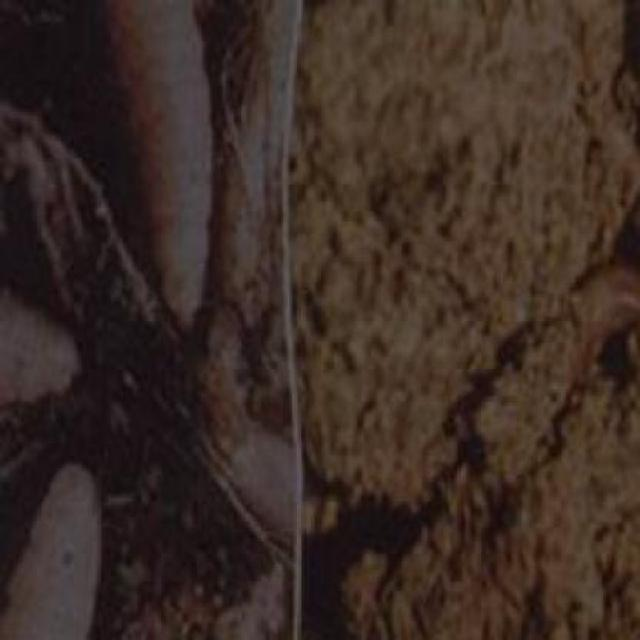whorl-maggot: (108, 0, 212, 335), (1, 459, 104, 632), (0, 281, 87, 408)
